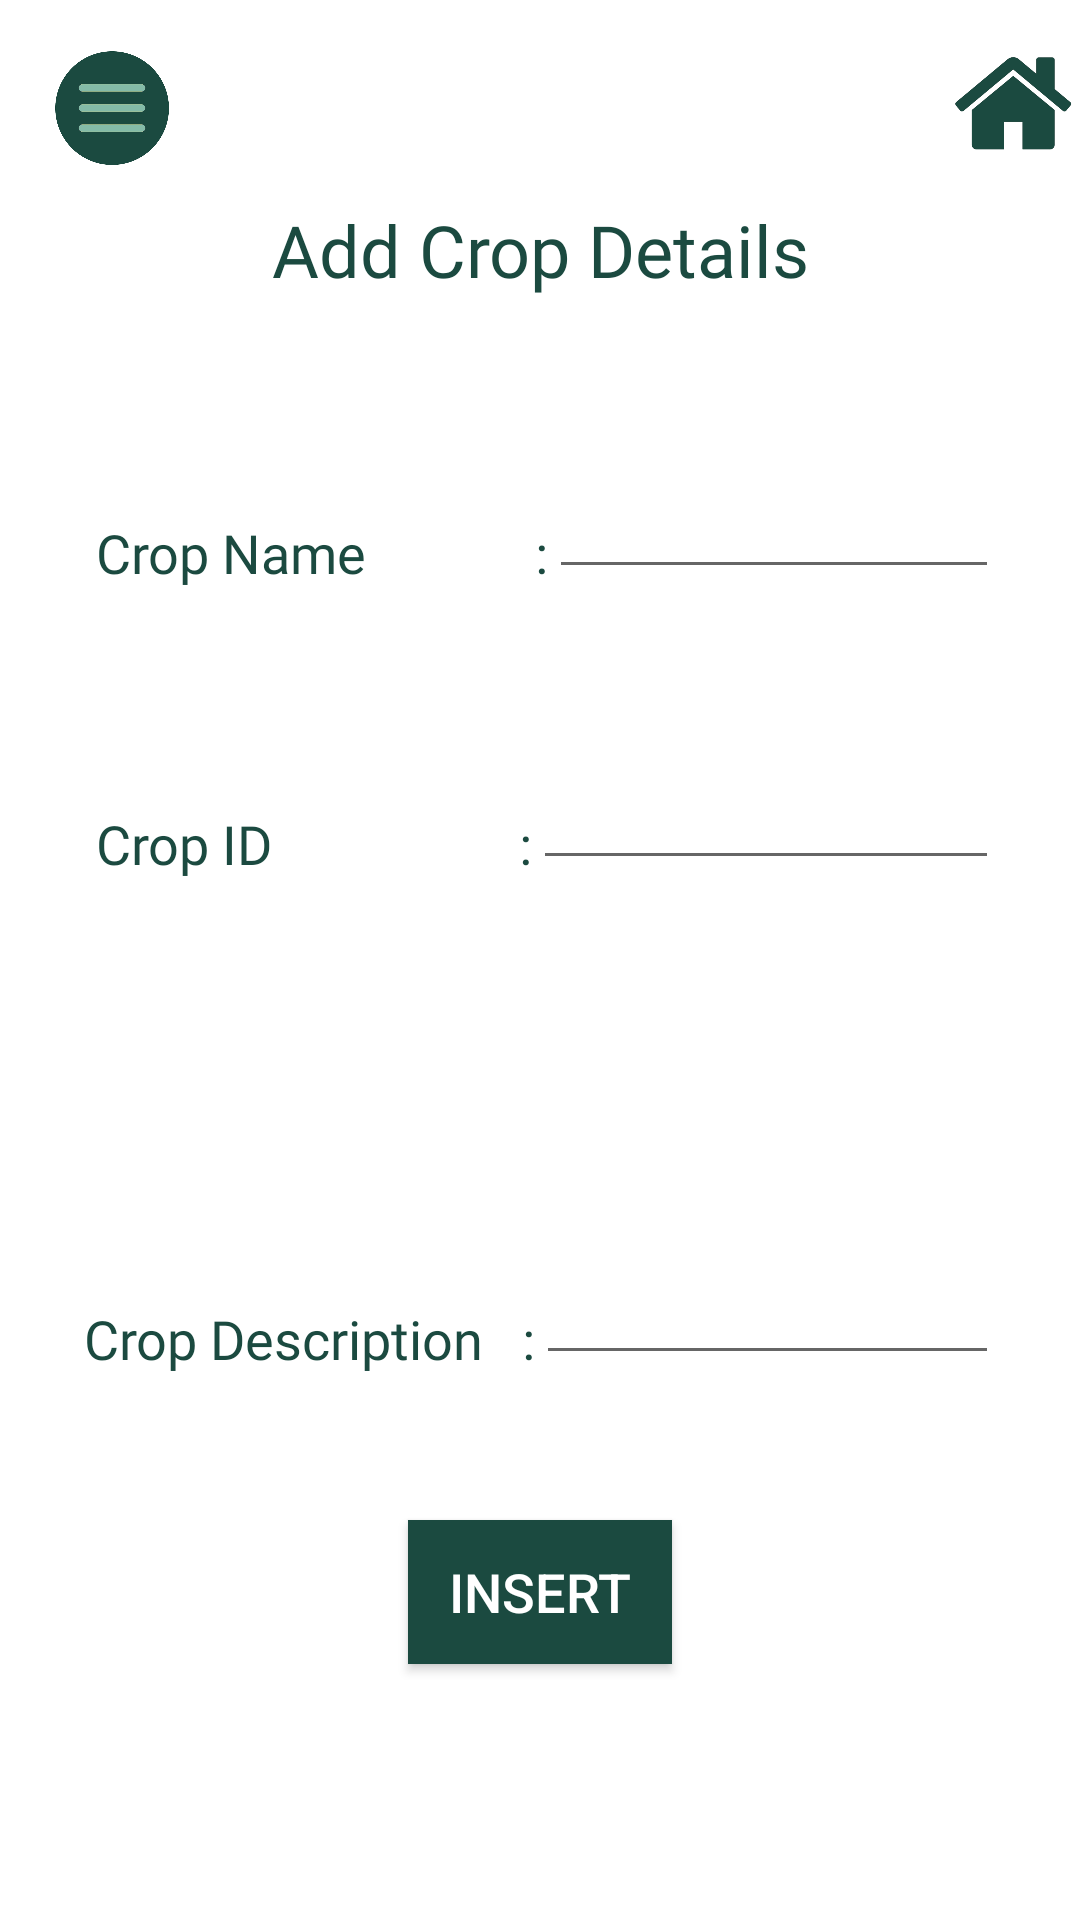

Screen size 1080×1920. Icon name, then its center in pixels as (x,y):
home: (1013,103)
